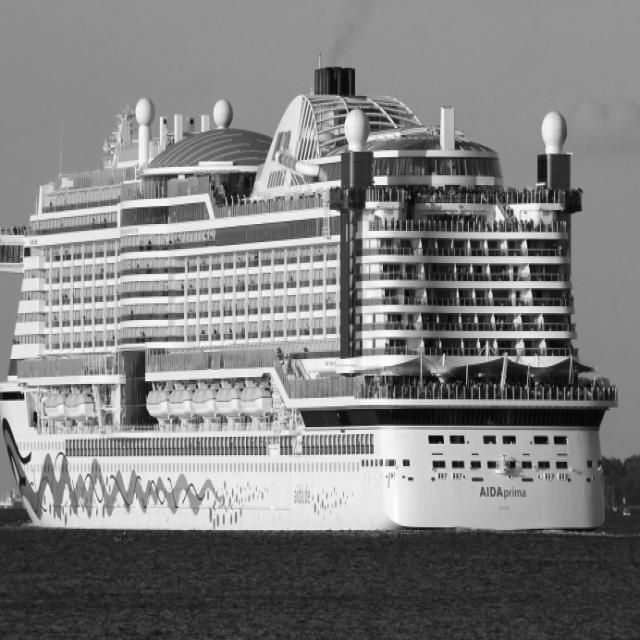cruises: (1, 53, 618, 542)
